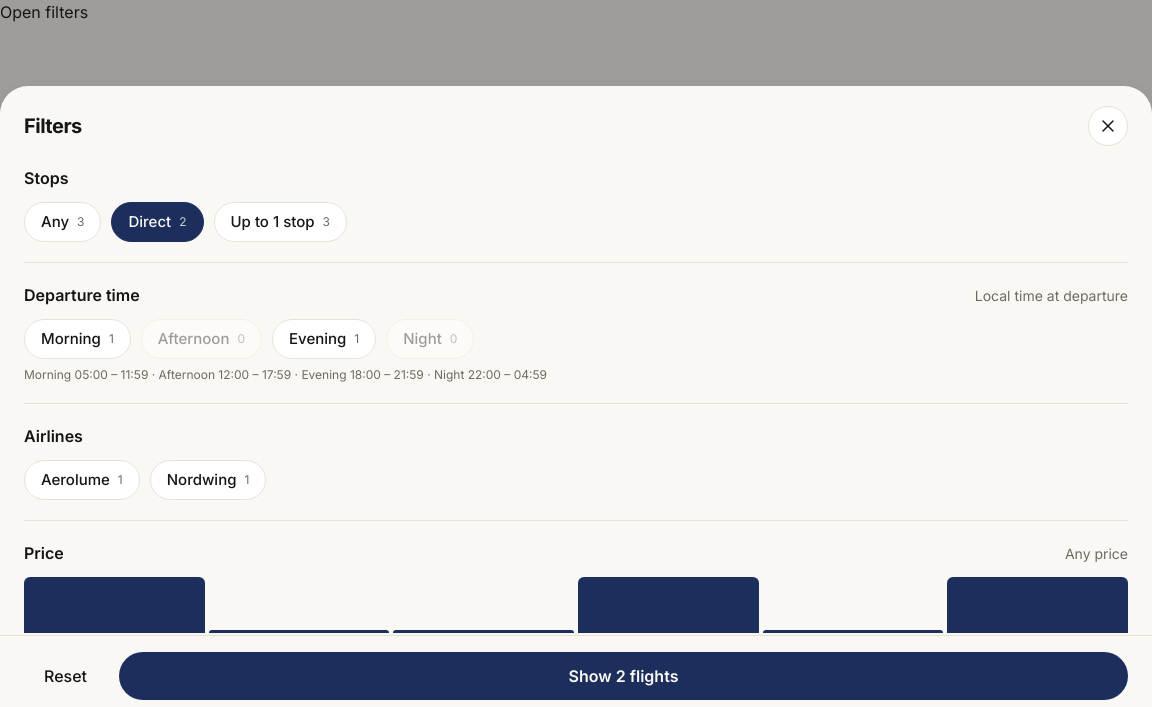
Test: FilterSheet › Reset clears the draft
Check: the button "Show 2 flights" is shown, box [119,652,1128,700]
Click the button "Reset".
click(66, 676)  # box [24,652,107,700]
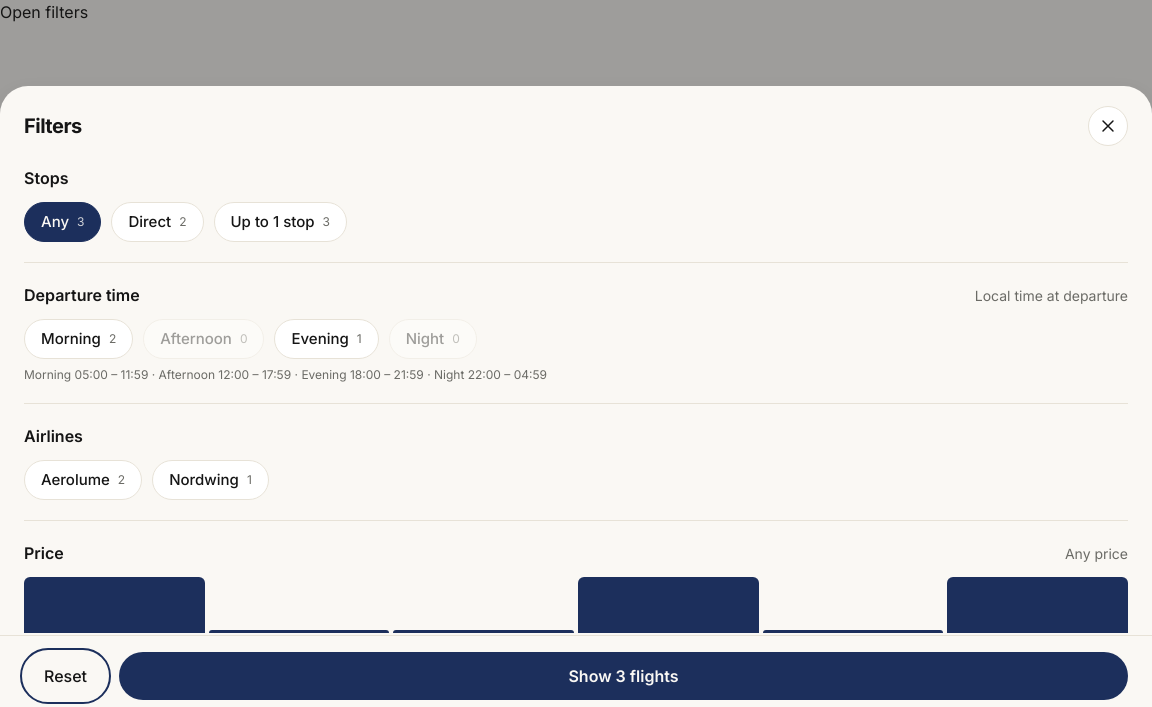
Check: the button "Show 3 flights" is shown, box [119,652,1128,700]
